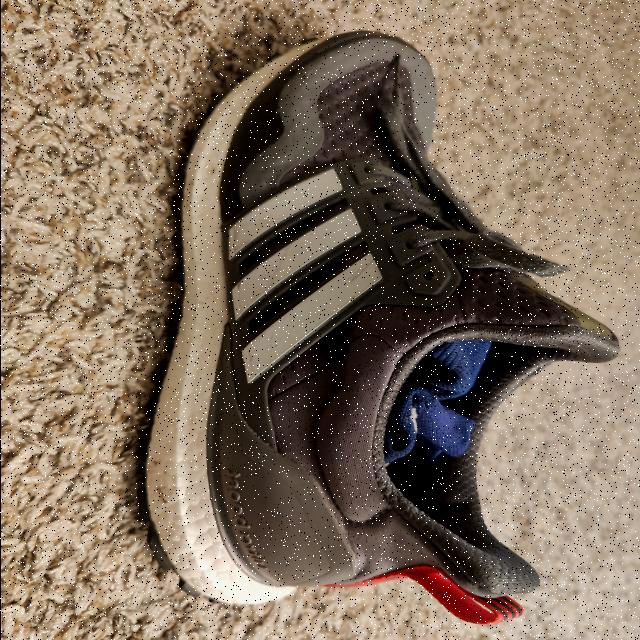black shoes: (142, 31, 614, 624)
